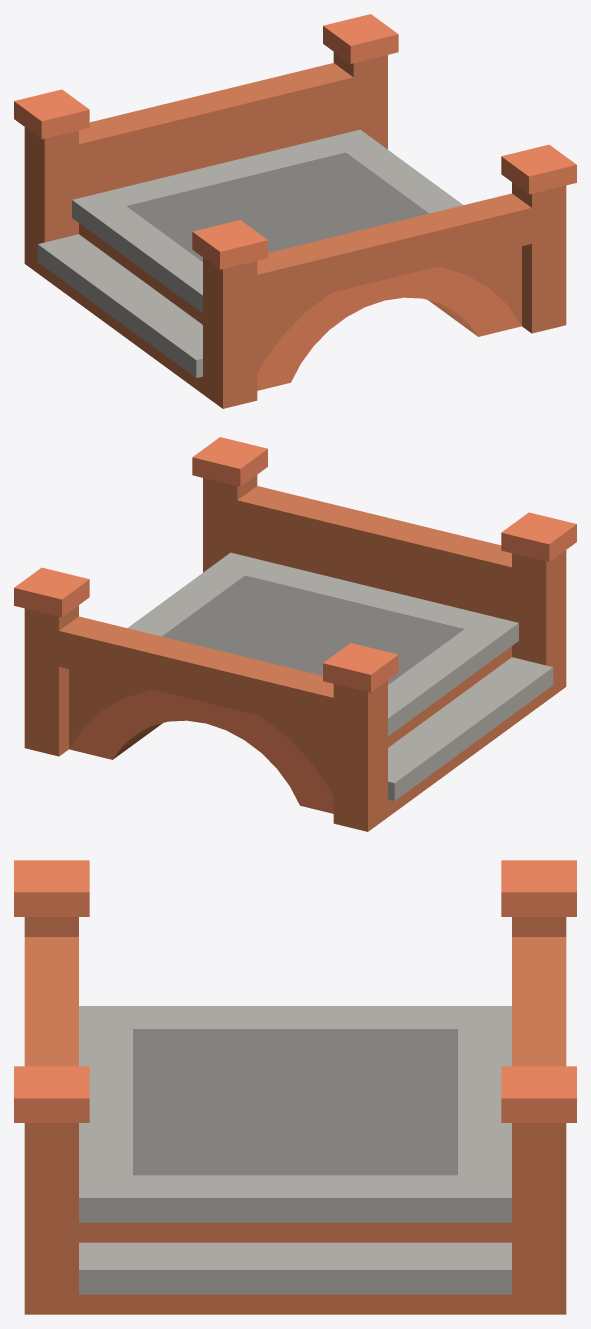
The model's file is bridge_woodRound.glb.
3 renders of one model, top to bottom at view 1: azimuth 30°, elevation 25°; view 2: azimuth 150°, elevation 25°; view 3: azimuth 270°, elevation 25°, orthographic. The views are drawn at different scales.
Visible parts, largest first — view 1: bridge_woodRound; view 2: bridge_woodRound; view 3: bridge_woodRound.
Part boxes in pixels (left/top/right/bottom): bridge_woodRound: left=14, top=14, right=576, bottom=408; bridge_woodRound: left=14, top=437, right=576, bottom=831; bridge_woodRound: left=14, top=860, right=576, bottom=1314.
Bounding box in the file's own units: 1.04 × 0.45 × 1.04.
